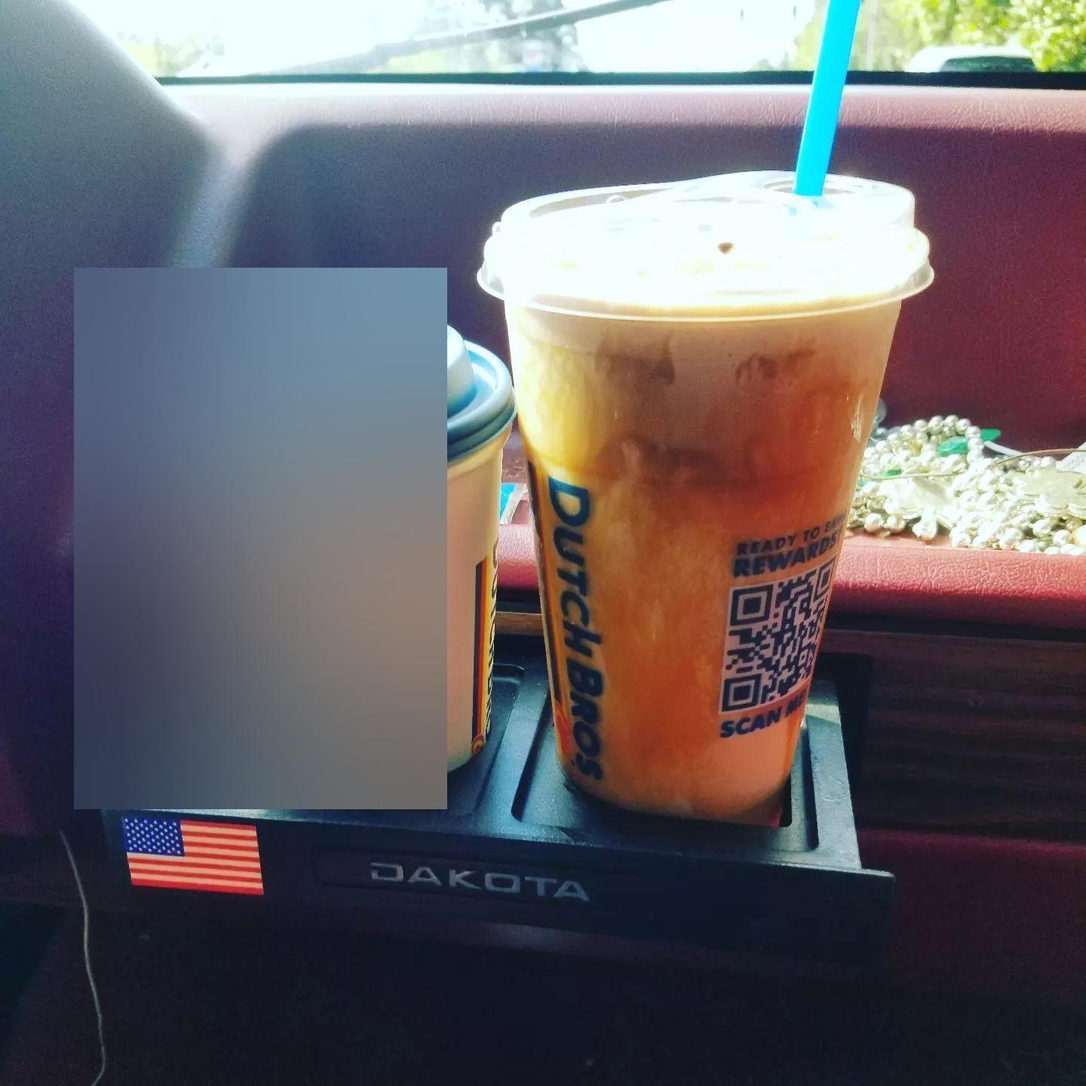cup-disposable: (477, 152, 946, 826)
